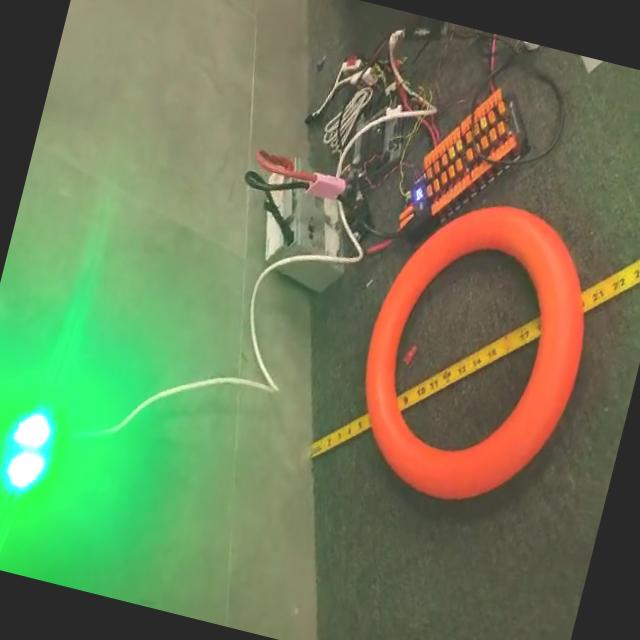note: (334, 181, 616, 528)
